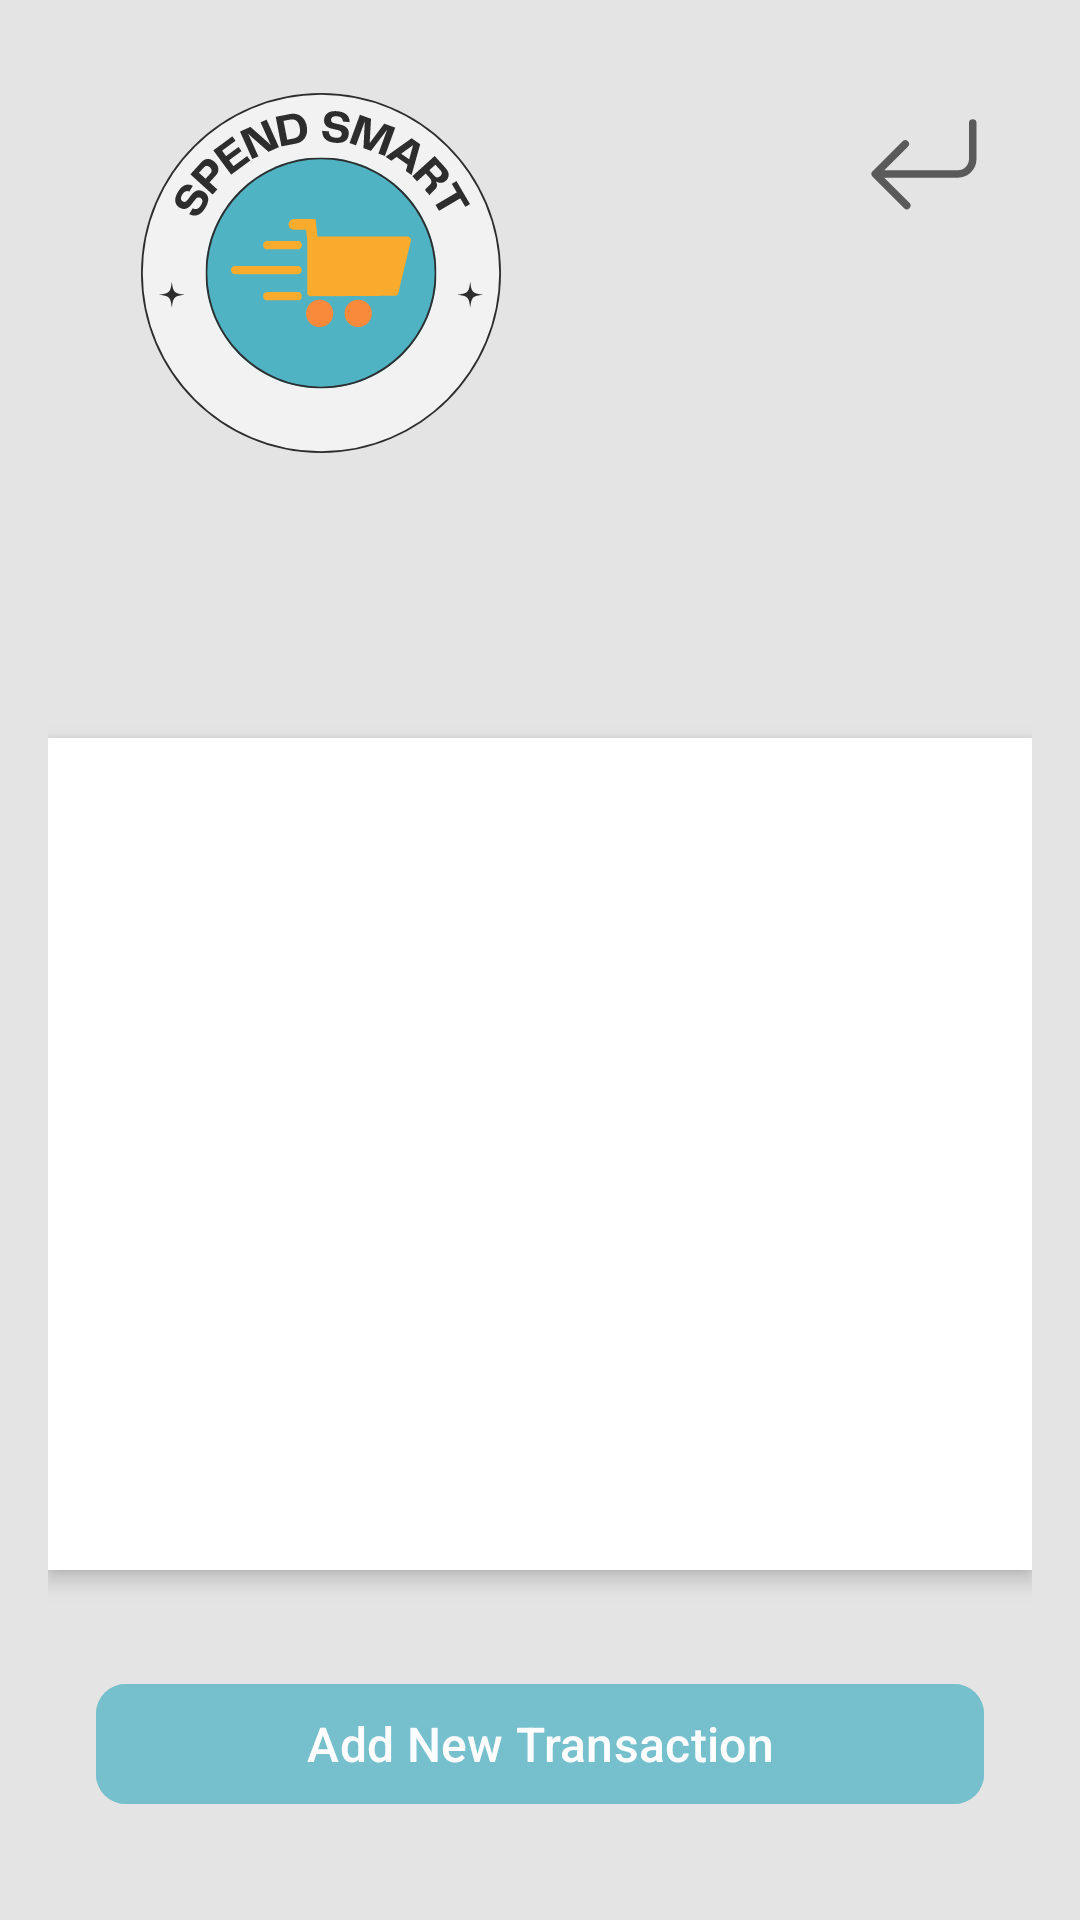

Icon click points for this 1080×1920 phone screenshot, format (x,y):
return: (924,164)
